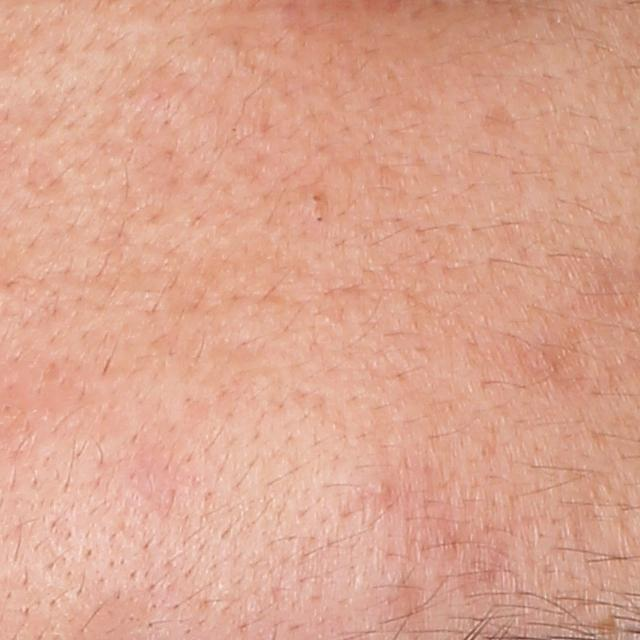atrophic_scar: (476, 100, 523, 140)
comedo: (366, 476, 393, 497), (306, 190, 328, 209)
